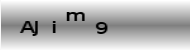9: (94, 21, 108, 34)
A: (19, 20, 35, 34)
J: (32, 19, 39, 37)
i: (51, 20, 58, 34)
m: (65, 11, 85, 22)
